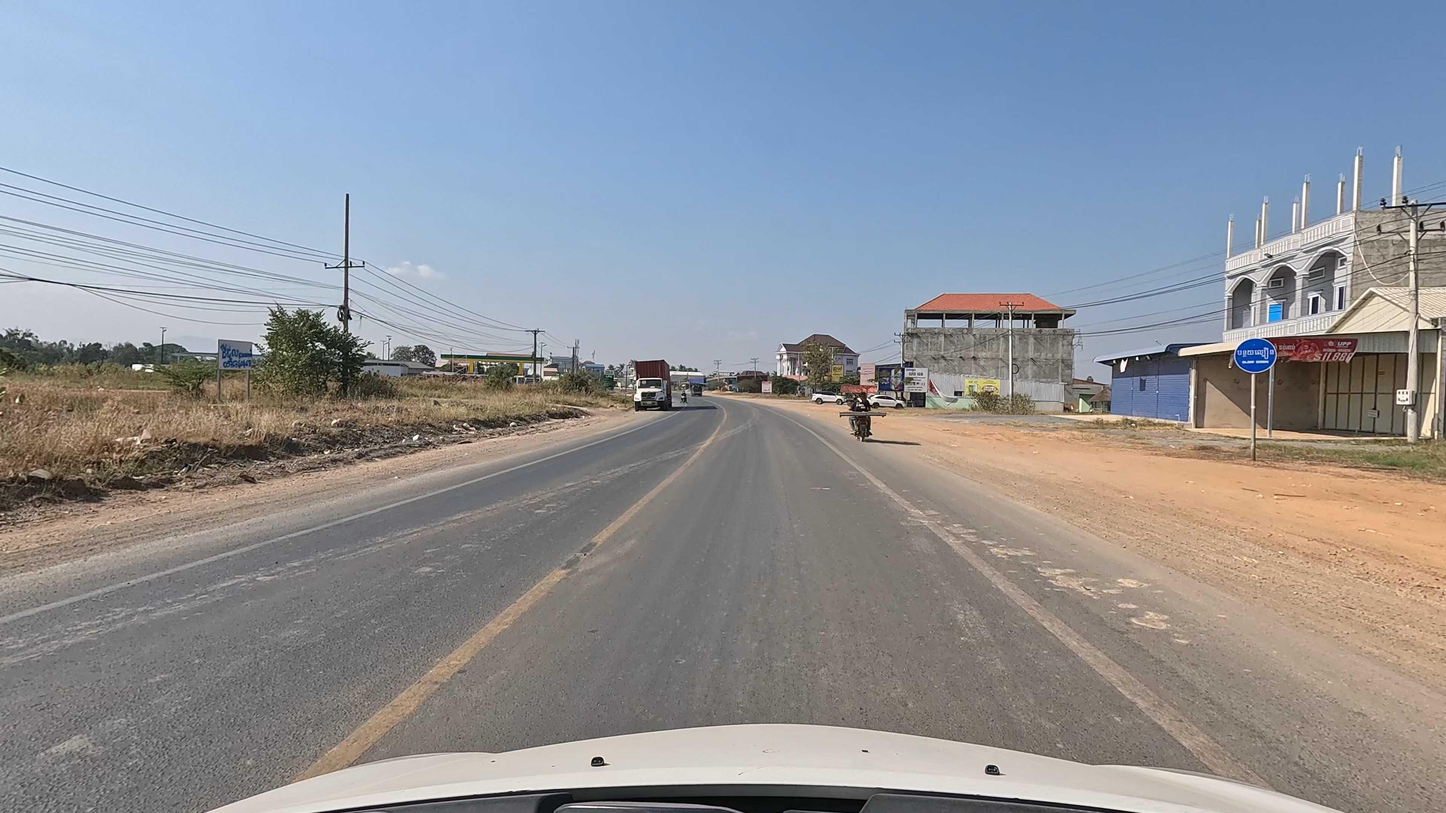slow_down: (1233, 338, 1276, 374)
